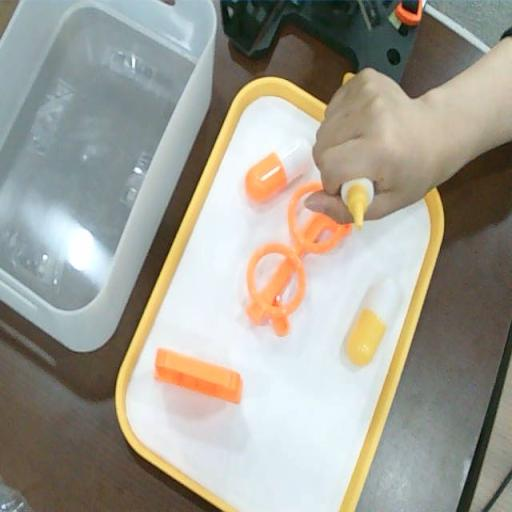hospital: (312, 67, 430, 221)
